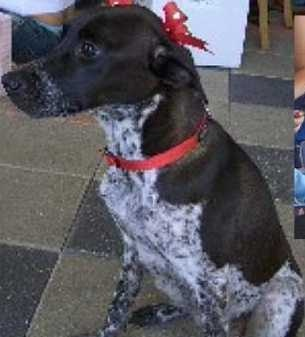dog: (11, 10, 243, 263)
